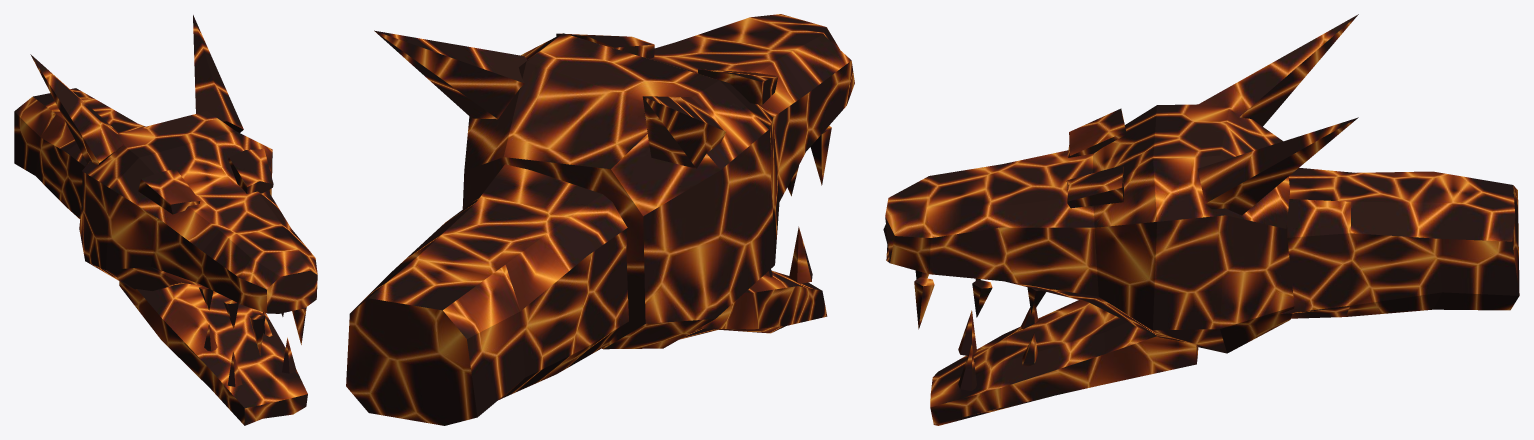
Rendered from shakugo-magma1.glb.
The picture shows the model from 3 angles, left to right: view 1: azimuth 30°, elevation 25°; view 2: azimuth 150°, elevation 25°; view 3: azimuth 270°, elevation 25°; orthographic projection. The views are drawn at different scales.
Visible parts, largest first — view 1: Shakugo_Magma_Left; view 2: Shakugo_Magma_Left; view 3: Shakugo_Magma_Left.
Part boxes in pixels (x1,y1,x2,y2): Shakugo_Magma_Left: (14, 15, 317, 425); Shakugo_Magma_Left: (346, 14, 854, 425); Shakugo_Magma_Left: (883, 14, 1519, 425).
Bounding box in the file's own units: 1.6 × 2.45 × 4.06.
1 material, 1 textured.
